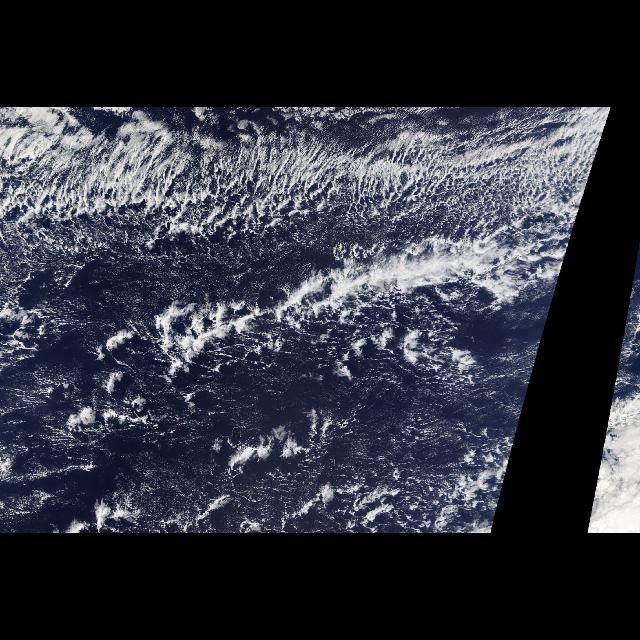Fish: (138, 217, 578, 386)
Gravel: (346, 412, 522, 528)
